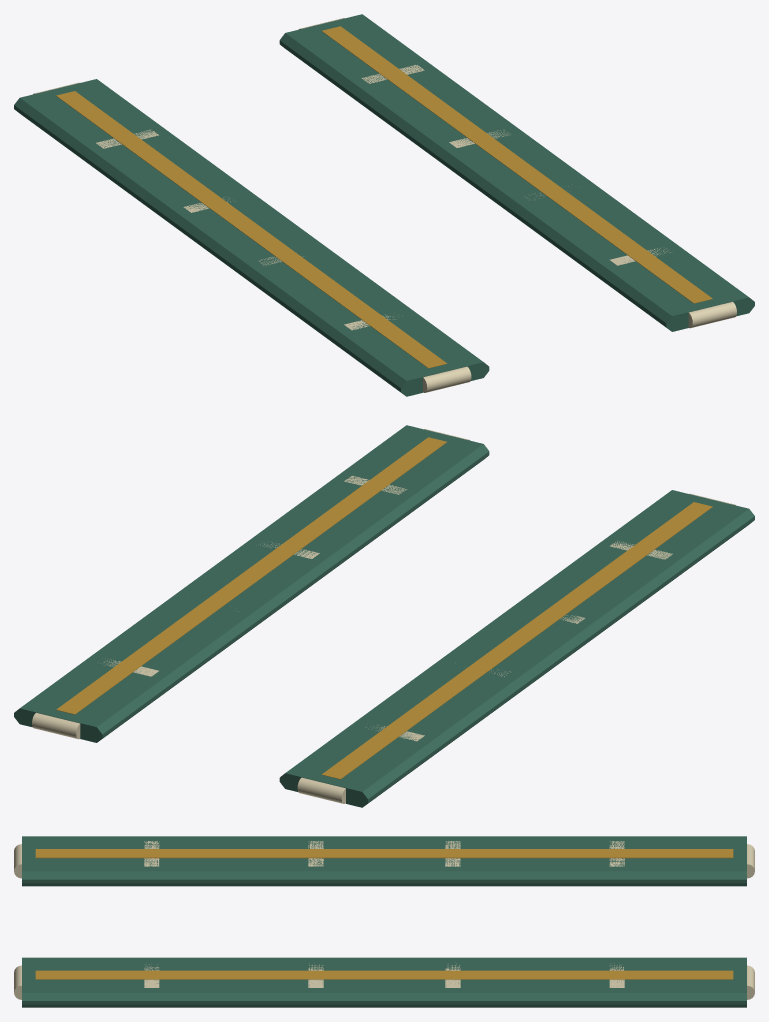
File: hangar2_cradles.obj
3 views of the same model, one above another, from view 1: azimuth 30°, elevation 25°; view 2: azimuth 150°, elevation 25°; view 3: azimuth 270°, elevation 25° (orthographic). The views are drawn at different scales.
Visible parts, largest first — view 1: hangar2_cradles; view 2: hangar2_cradles; view 3: hangar2_cradles.
Part boxes in pixels (left/top/right/bottom): hangar2_cradles: left=14, top=14, right=754, bottom=396; hangar2_cradles: left=14, top=425, right=754, bottom=807; hangar2_cradles: left=14, top=836, right=754, bottom=1007.
Bounding box in the file's own units: 5.6 × 0.246 × 10.83.
